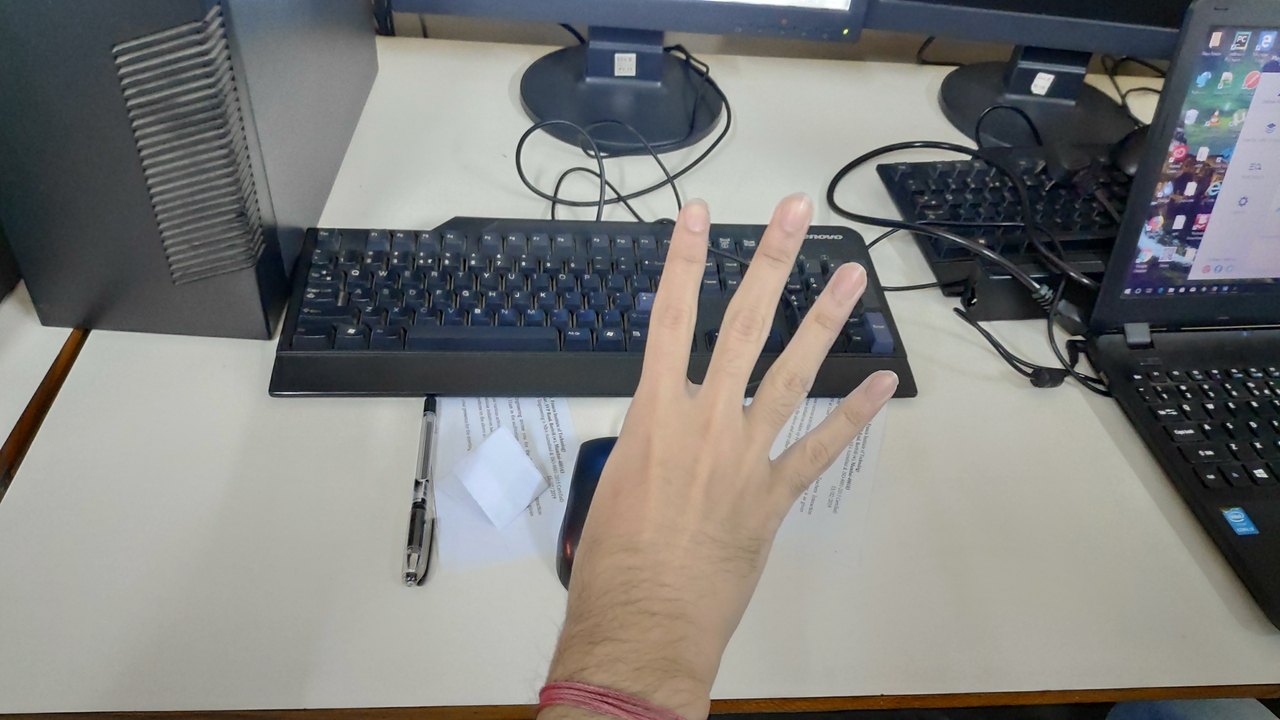fingertip: (804, 252, 876, 320), (762, 180, 826, 234), (666, 182, 722, 234), (860, 367, 899, 413)
